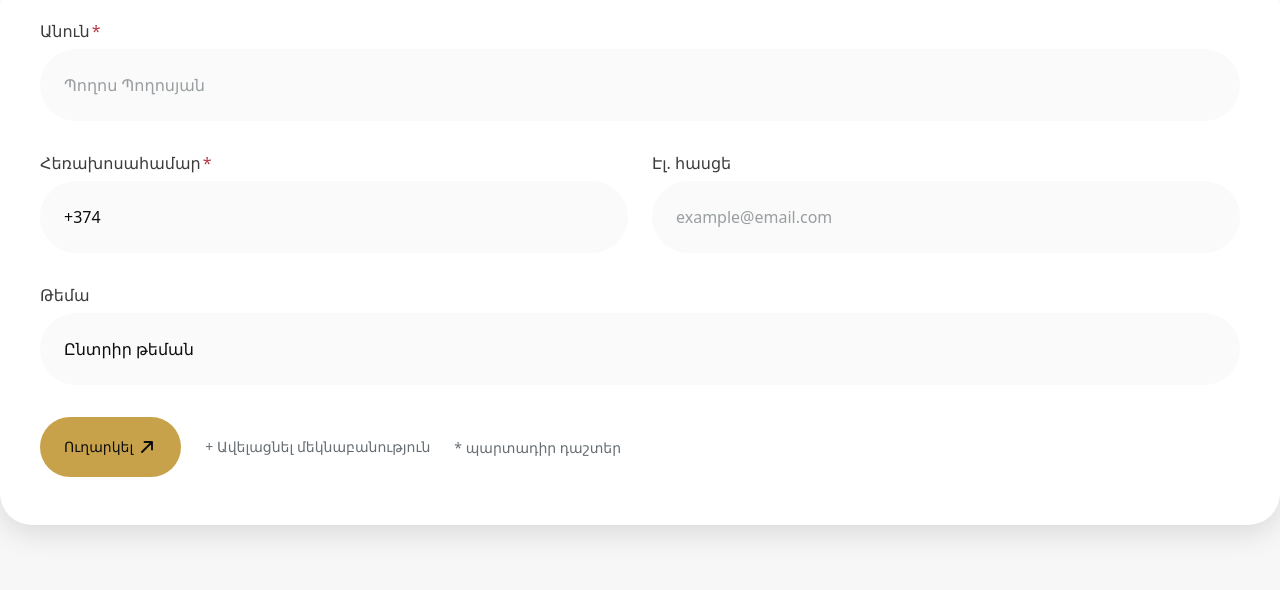
ContactForm — required name & phone › blocks an empty submit client-side, shows both errors and focuses the first bad field
The image size is (1280, 590).
Click the button "Ուղարկել" at coordinates (111, 447), box 40,417 -> 181,477
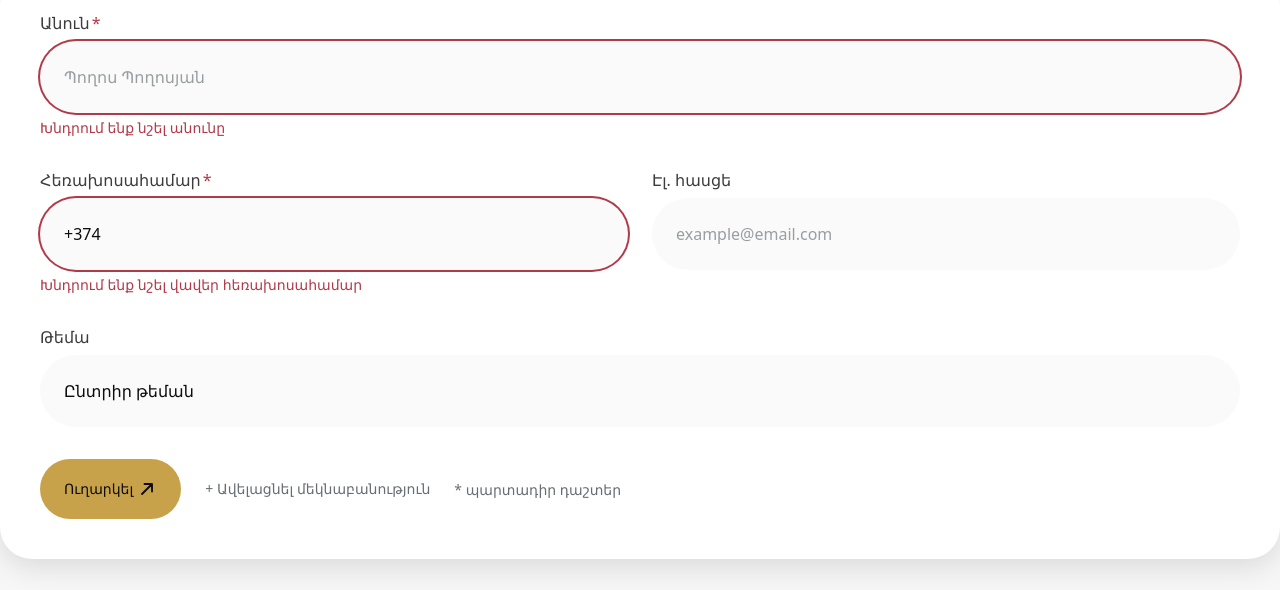
Expected: the text "Խնդրում ենք նշել անունը" is shown, 40,118 -> 225,137
Expected: the text "Խնդրում ենք նշել վավեր հեռախոսահամար" is shown, 40,275 -> 362,294
